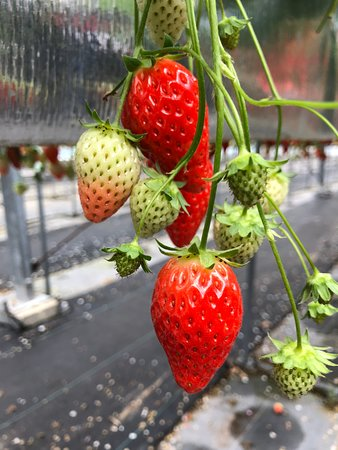ripe: (148, 248, 245, 398), (127, 57, 203, 173), (174, 93, 221, 172), (271, 342, 319, 406), (170, 175, 213, 244)
unripe: (70, 122, 141, 223), (204, 196, 270, 263), (122, 174, 186, 241), (129, 0, 197, 47), (227, 152, 268, 204), (254, 169, 293, 216), (118, 239, 142, 278)
